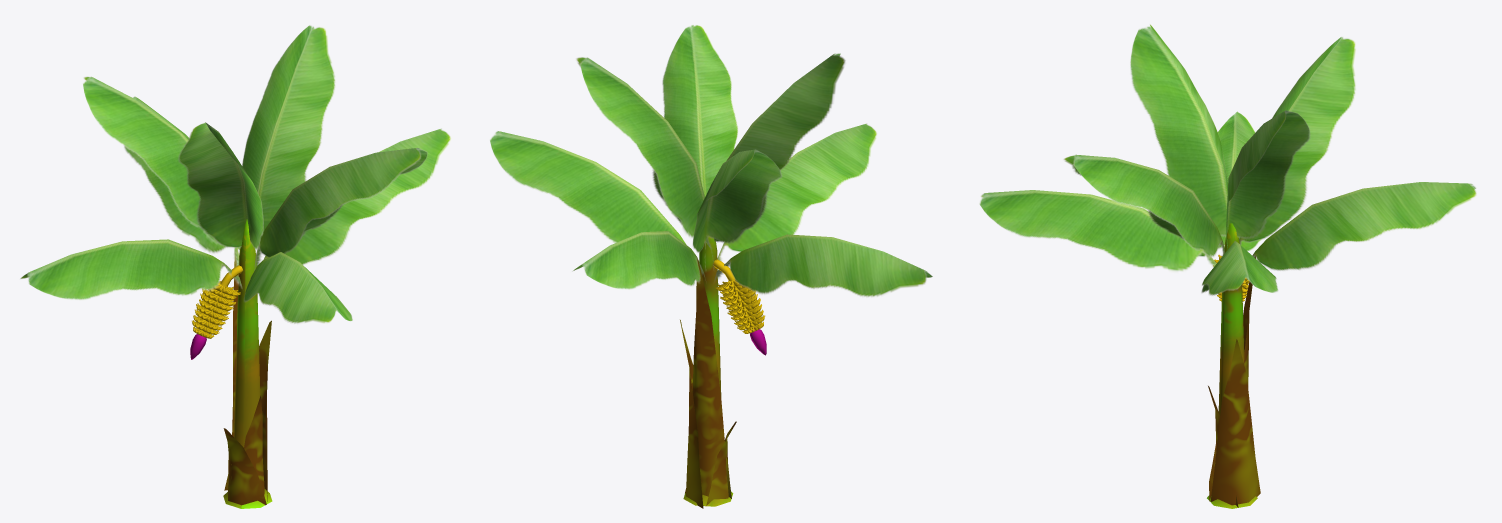
3 views of the same model, side by side, from view 1: azimuth 30°, elevation 25°; view 2: azimuth 150°, elevation 25°; view 3: azimuth 270°, elevation 25° (orthographic).
Visible parts, largest first — view 1: G_Leaf.007, G_Leaf.001, G_Trunk, G_Leaf.006, G_Leaf.005, G_Leaf, G_Leaf.003, G_Leaf.002, G_Fruits, G_Leaf.004; view 2: G_Leaf.003, G_Leaf.001, G_Trunk, G_Leaf.006, G_Leaf.007, G_Leaf.002, G_Leaf.005, G_Leaf, G_Leaf.004, G_Fruits; view 3: G_Leaf.002, G_Leaf.004, G_Leaf.005, G_Trunk, G_Leaf, G_Leaf.006, G_Leaf.007, G_Leaf.003, G_Leaf.001.
Boxes of the visible parts, left/top/right/bottom form: G_Leaf.007: left=242, top=25, right=335, bottom=239; G_Leaf.001: left=20, top=239, right=242, bottom=300; G_Trunk: left=223, top=219, right=272, bottom=508; G_Leaf.006: left=254, top=147, right=427, bottom=270; G_Leaf.005: left=178, top=122, right=263, bottom=250; G_Leaf: left=83, top=76, right=240, bottom=254; G_Leaf.003: left=263, top=128, right=451, bottom=265; G_Leaf.002: left=244, top=252, right=352, bottom=323; G_Fruits: left=190, top=265, right=242, bottom=359; G_Leaf.004: left=124, top=96, right=239, bottom=275; G_Leaf.003: left=489, top=131, right=686, bottom=244; G_Leaf.001: left=714, top=234, right=932, bottom=297; G_Trunk: left=680, top=236, right=736, bottom=508; G_Leaf.006: left=662, top=24, right=738, bottom=196; G_Leaf.007: left=576, top=57, right=704, bottom=238; G_Leaf.002: left=717, top=123, right=877, bottom=261; G_Leaf.005: left=714, top=53, right=845, bottom=242; G_Leaf: left=692, top=149, right=782, bottom=268; G_Leaf.004: left=572, top=231, right=705, bottom=289; G_Fruits: left=713, top=259, right=766, bottom=355; G_Leaf.002: left=979, top=190, right=1216, bottom=272; G_Leaf.004: left=1252, top=182, right=1476, bottom=270; G_Leaf.005: left=1130, top=24, right=1227, bottom=236; G_Trunk: left=1207, top=223, right=1260, bottom=508; G_Leaf: left=1239, top=36, right=1356, bottom=244; G_Leaf.006: left=1063, top=154, right=1225, bottom=257; G_Leaf.007: left=1226, top=110, right=1310, bottom=249; G_Leaf.003: left=1201, top=240, right=1278, bottom=295; G_Leaf.001: left=1218, top=111, right=1263, bottom=251.
Size of the model in its own units: 348 by 327 by 348.
4 materials, 2 textured.
